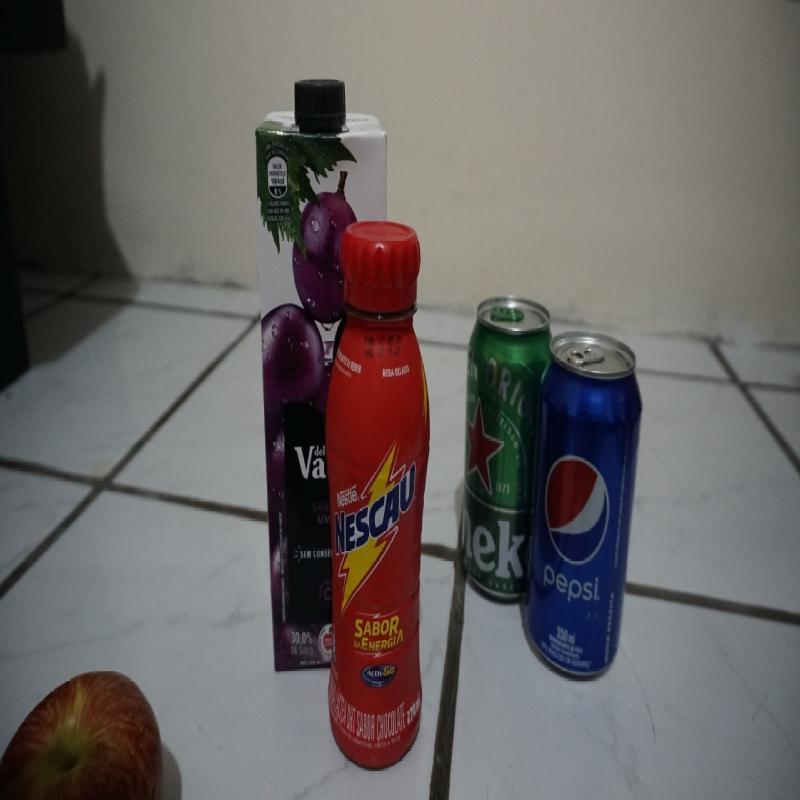Apple: (6, 650, 166, 791)
Beer can: (459, 295, 534, 602)
Chocolate Milk: (325, 222, 426, 762)
Soda can: (539, 336, 644, 677)
